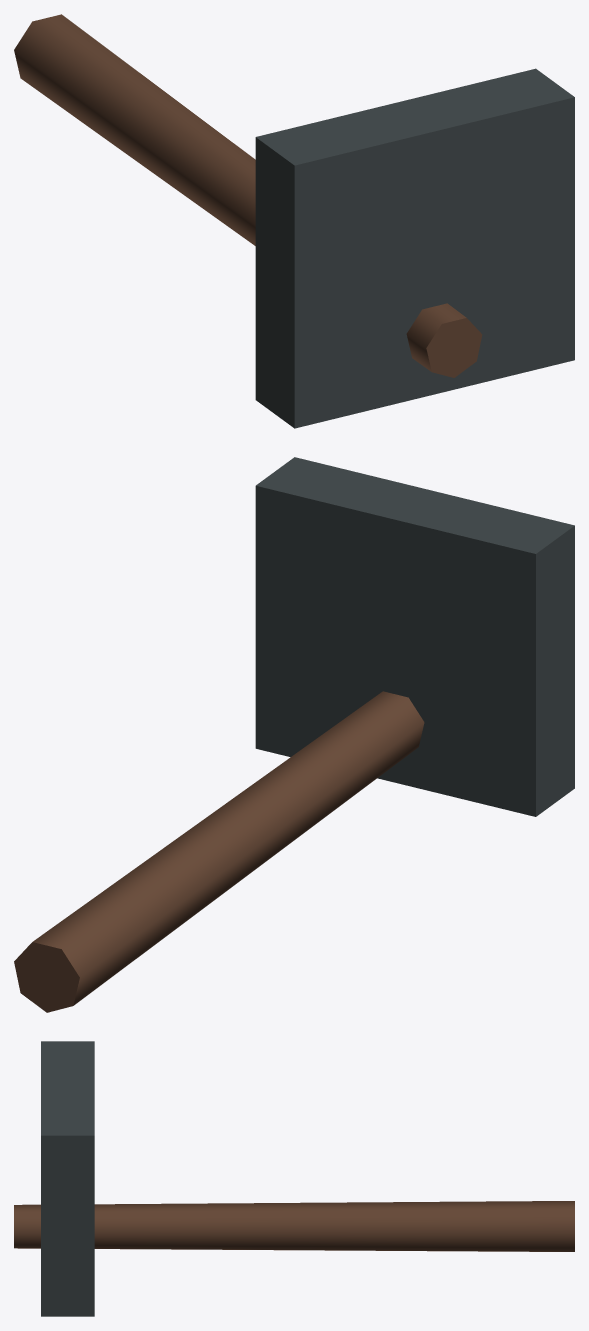
The model's file is Tool_Hoe.glb.
The picture shows the model from 3 angles, top to bottom: view 1: azimuth 30°, elevation 25°; view 2: azimuth 150°, elevation 25°; view 3: azimuth 270°, elevation 25°; orthographic projection. The views are drawn at different scales.
Visible parts, largest first — view 1: _MeshInstance3D_4577, _MeshInstance3D_4576; view 2: _MeshInstance3D_4577, _MeshInstance3D_4576; view 3: _MeshInstance3D_4576, _MeshInstance3D_4577.
Boxes of the visible parts, x1,y1,x2,y2 form: _MeshInstance3D_4577: [255, 68, 574, 428]; _MeshInstance3D_4576: [14, 14, 482, 377]; _MeshInstance3D_4577: [255, 457, 574, 816]; _MeshInstance3D_4576: [14, 691, 424, 1012]; _MeshInstance3D_4576: [14, 1201, 574, 1251]; _MeshInstance3D_4577: [41, 1041, 94, 1316].
Bounding box in the file's own units: 0.29 × 0.26 × 0.73.
